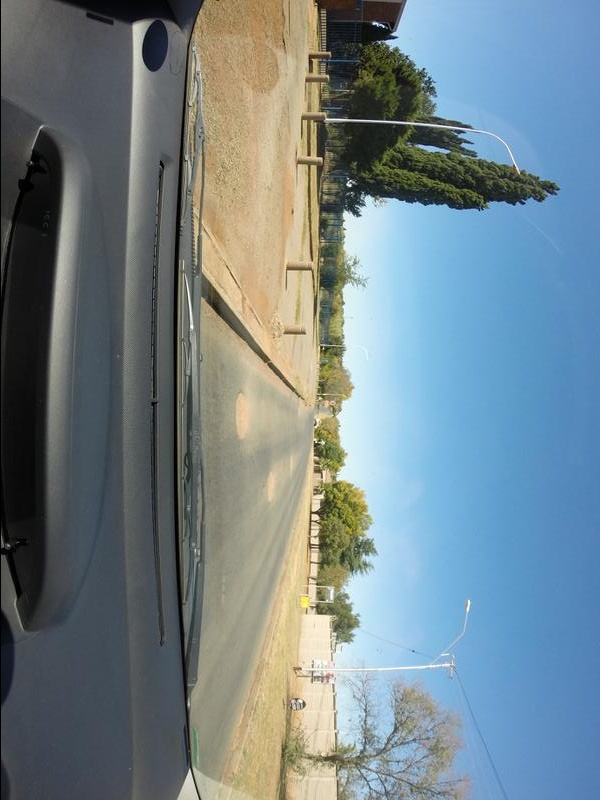pothole: (219, 383, 257, 472), (262, 473, 281, 513)
